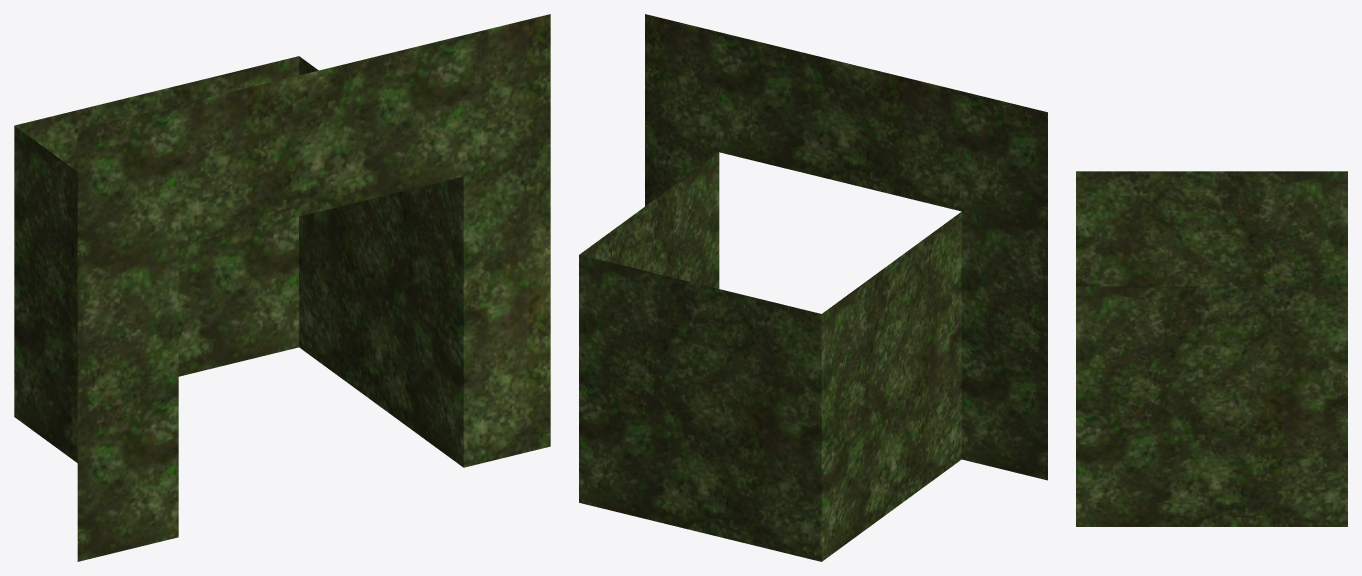
File: OVERHILL_A_01_OBJECT70.fbx
The picture shows the model from 3 angles, left to right: view 1: azimuth 30°, elevation 25°; view 2: azimuth 150°, elevation 25°; view 3: azimuth 270°, elevation 25°; orthographic projection. The views are drawn at different scales.
Parts seen in each view (by area): view 1: OVERHILL_A_01_OBJECT70; view 2: OVERHILL_A_01_OBJECT70; view 3: OVERHILL_A_01_OBJECT70.
Boxes of the visible parts, x1=… form: OVERHILL_A_01_OBJECT70: x1=14, y1=14, x2=550, y2=561; OVERHILL_A_01_OBJECT70: x1=579, y1=14, x2=1047, y2=561; OVERHILL_A_01_OBJECT70: x1=1076, y1=171, x2=1347, y2=526.
Size of the model in its own units: 54178 by 47322 by 32623.
1 material, 1 textured.
